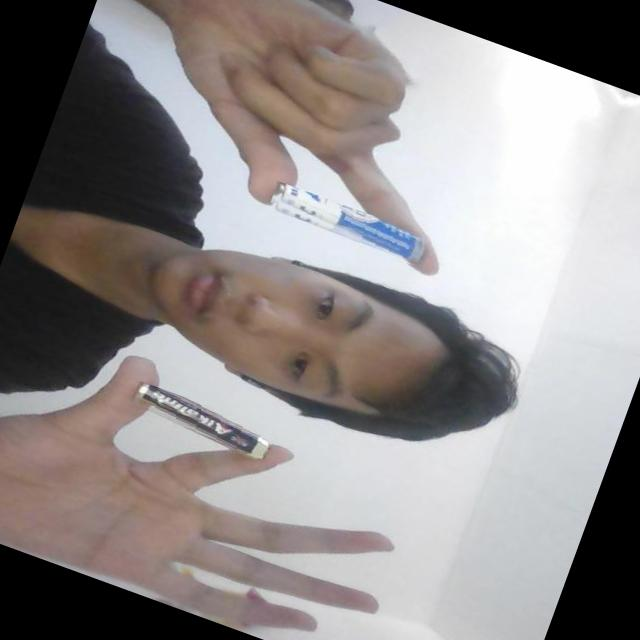Hazard: (264, 180, 432, 269), (127, 380, 276, 460)
